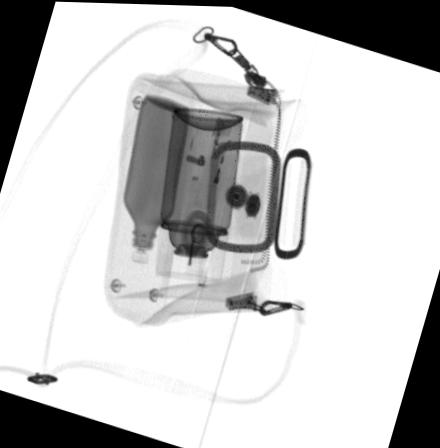Lighter: (201, 114, 237, 183)
Sprayer: (155, 104, 243, 281)
